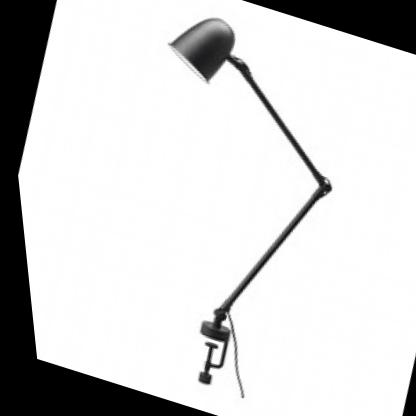Lamp: (35, 0, 401, 416)
